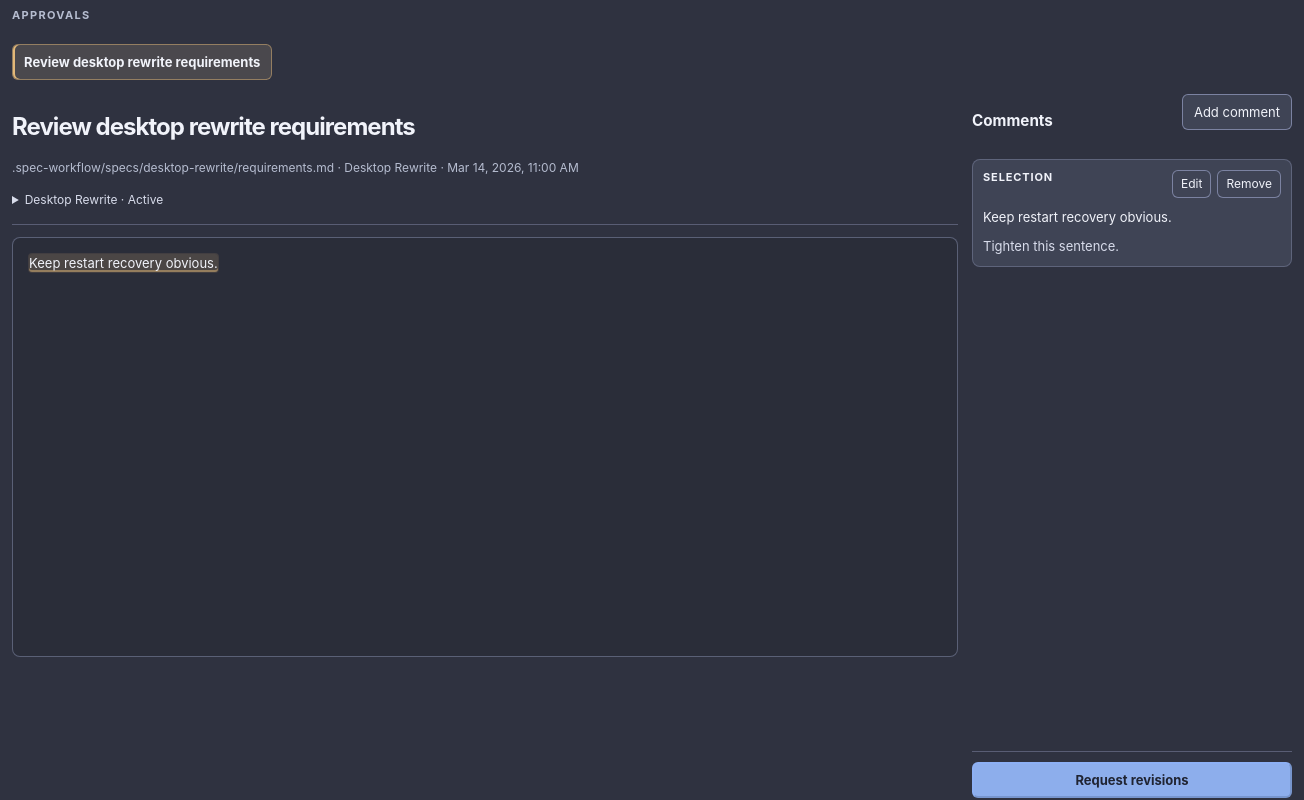
ApprovalReviewPanel › lets the reviewer edit an existing comment and focus its highlighted text from the comments column
Click the text with class "approval-comment-selection" at (1077, 217), box [983, 209, 1172, 225]
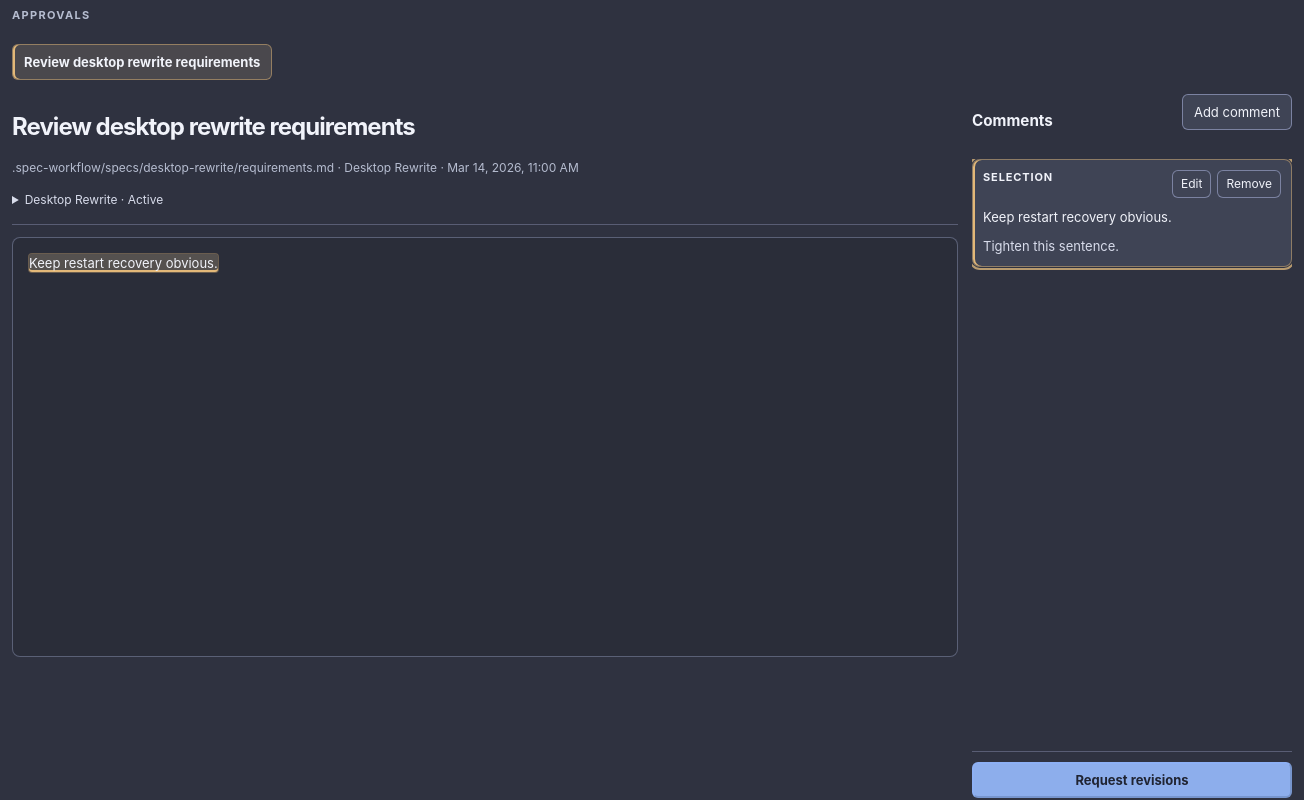
Result: the text with class "approval-inline-comment-active" is shown at [29, 254, 218, 272]
Click the button with aria-label "Edit comment" at (1192, 184), box [1172, 170, 1212, 198]
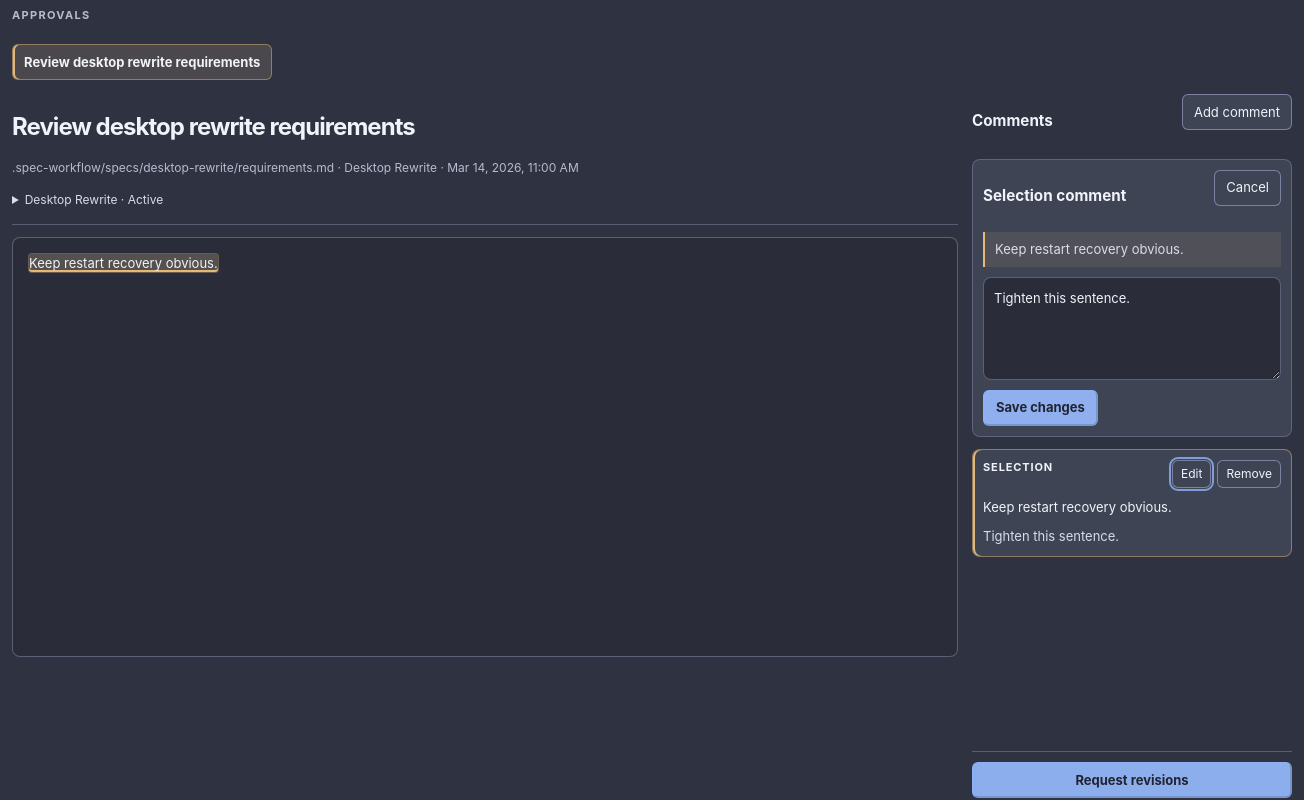
Result: the text box named "Approval comment" holds "Tighten this sentence."
Replace the text in the text box named "Approval comment" with "Clarify this sentence." at (1132, 328), box [983, 277, 1281, 380]
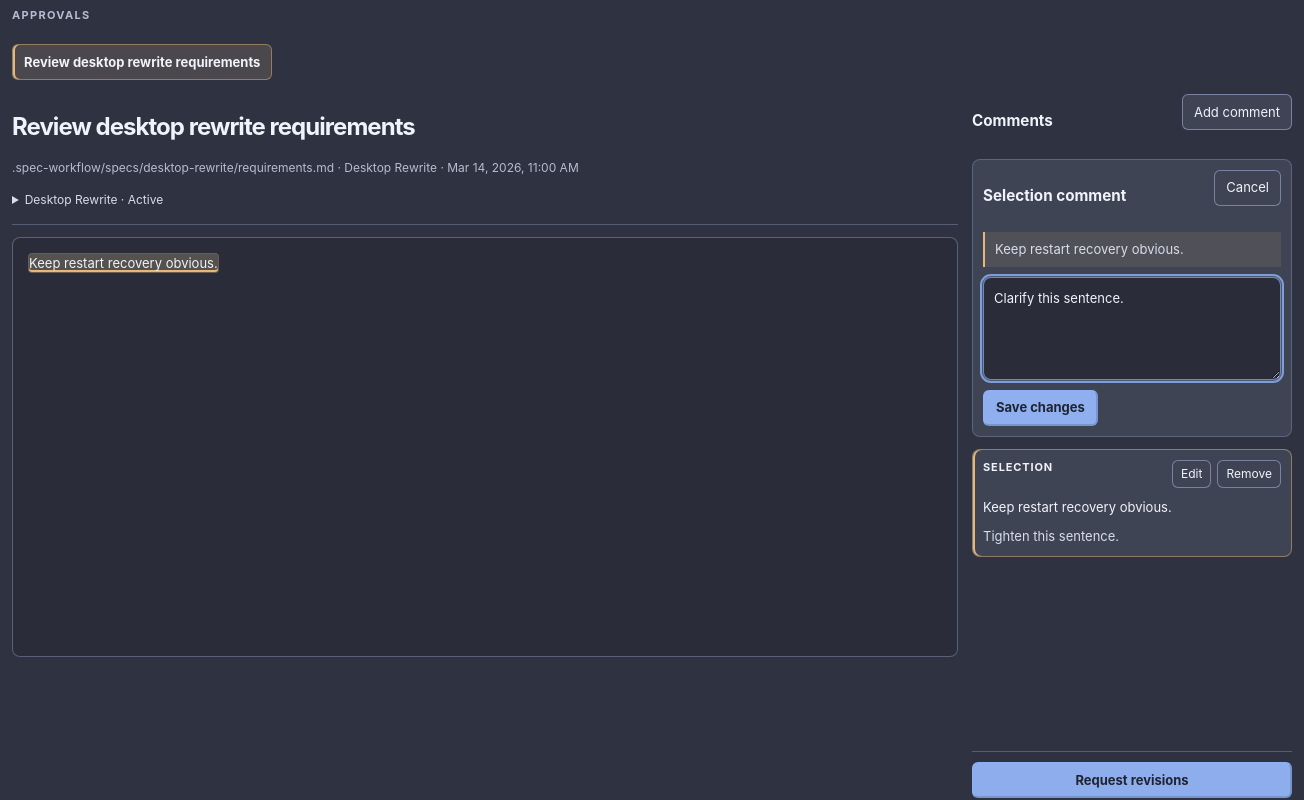
Click the button "Save changes" at (1040, 408), box [983, 390, 1098, 426]
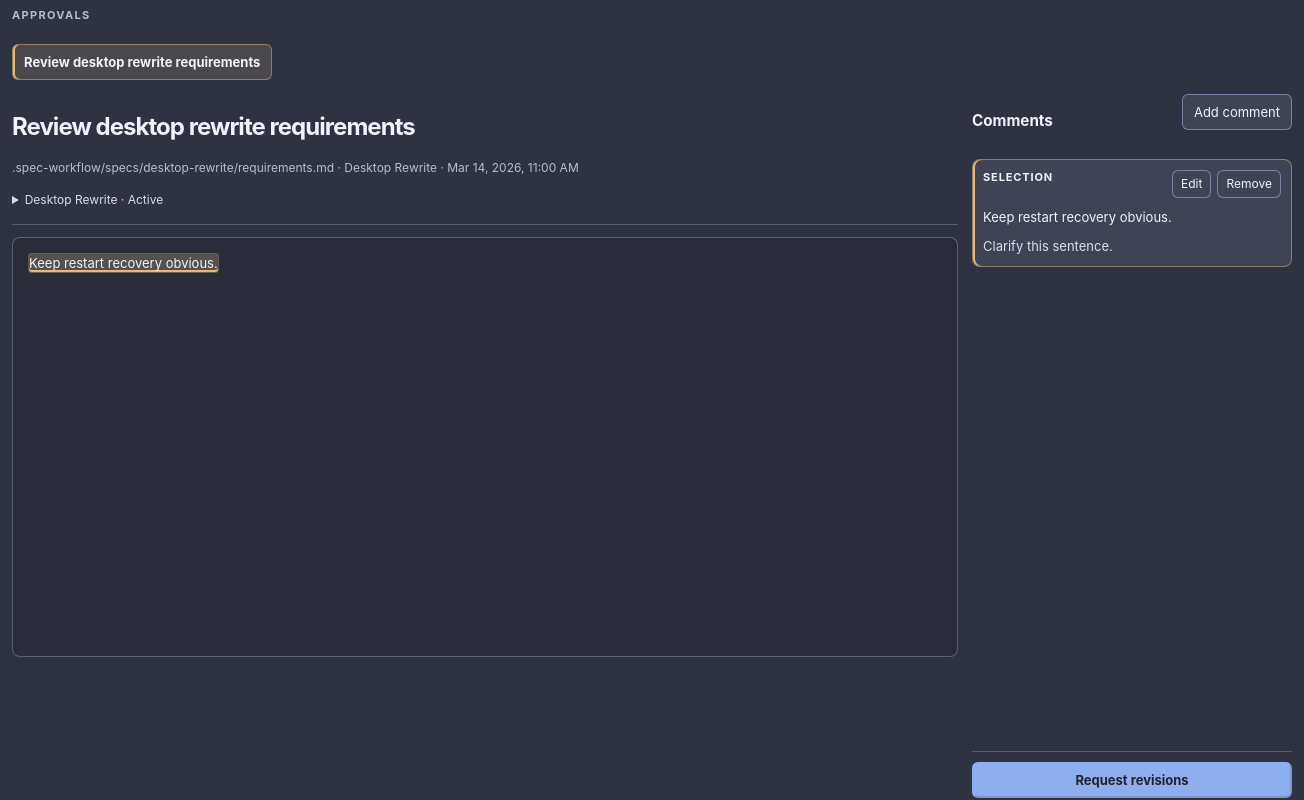
Result: the text "Clarify this sentence." is shown at [983, 238, 1113, 254]
Result: the button "Tighten this sentence." is gone
